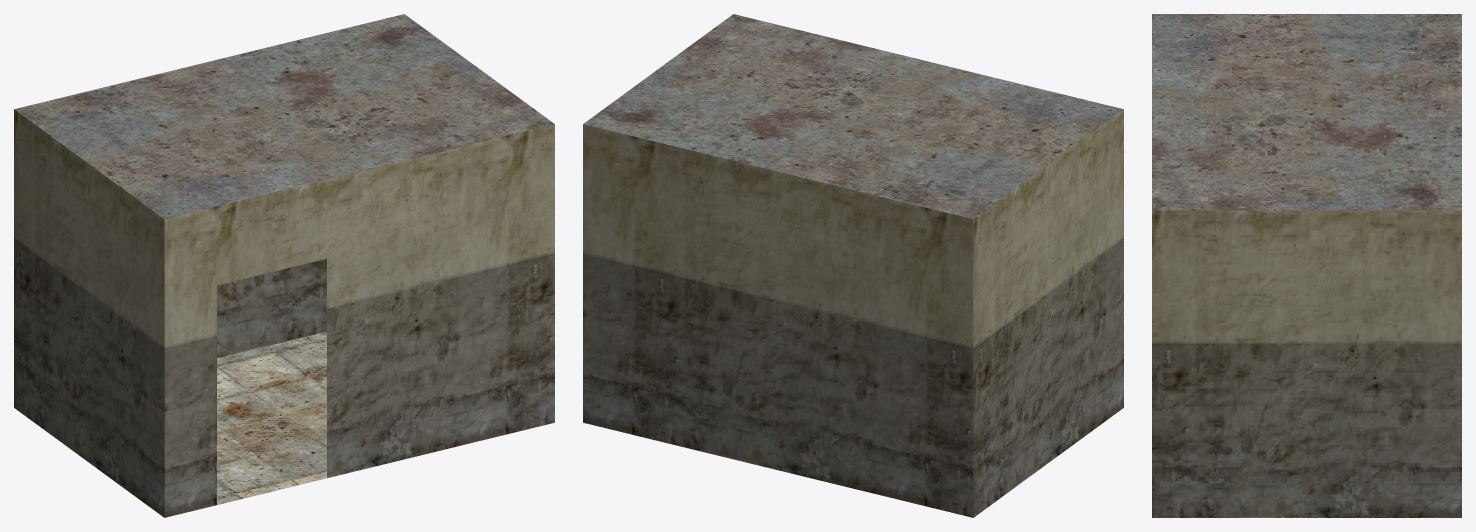
Rendered from _Room_4.FBX.
The picture shows the model from 3 angles, left to right: view 1: azimuth 30°, elevation 25°; view 2: azimuth 150°, elevation 25°; view 3: azimuth 270°, elevation 25°; orthographic projection. The views are drawn at different scales.
Parts seen in each view (by area): view 1: _Room_4; view 2: _Room_4; view 3: _Room_4.
Boxes of the visible parts, x1,y1,x2,y2 form: _Room_4: [14, 14, 554, 517]; _Room_4: [583, 14, 1123, 517]; _Room_4: [1152, 14, 1461, 517].
Size of the model in its own units: 334 by 244 by 223.
Materials: 3 (3 with a texture image).
